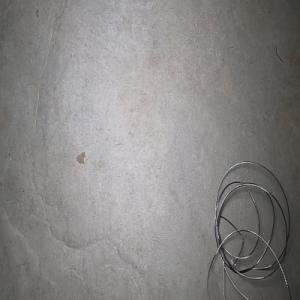Wire: (206, 160, 291, 300)
